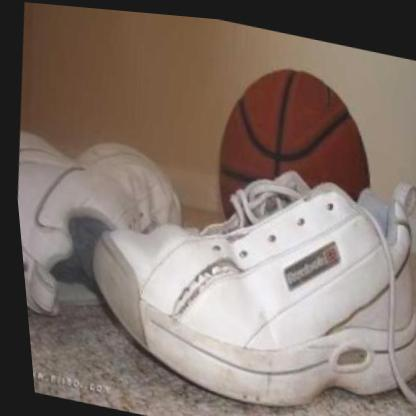basketball: (192, 40, 392, 264)
